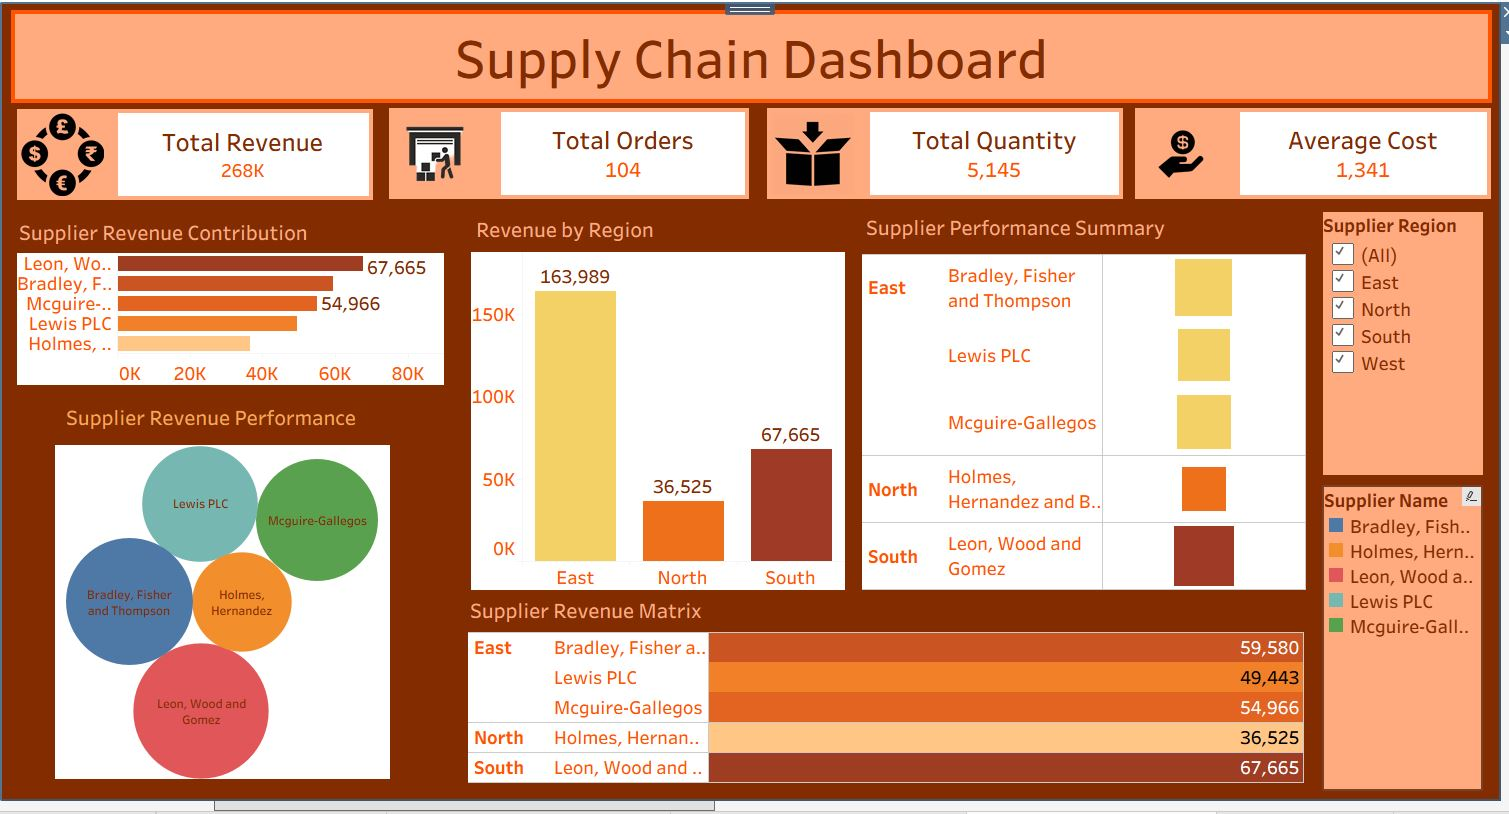

The dashboard page shown, as its layout file describes it:
{"tool":"tableau","page":{"name":"Supply Chain Dashboard","canvas":[1500,800],"ordinal":0},"visuals":[{"type":"text","box":[14,18,1481,93]},{"type":"image","param":"C:/Users/ADMIN/OneDrive/Desktop/icon/unit.png","box":[392,116,108,91]},{"type":"worksheet","title":"KPI Total Orders","mark":"Automatic","box":[500,116,252,91]},{"type":"image","param":"C:/Users/ADMIN/OneDrive/Desktop/icon/available stock.jpg","box":[770,116,99,91]},{"type":"worksheet","title":"KPI Total Quantity","mark":"Automatic","box":[869,116,257,91]},{"type":"image","param":"C:/Users/ADMIN/OneDrive/Desktop/icon/revenue.png","box":[1138,116,101,91]},{"type":"worksheet","title":"KPI Average cost","mark":"Automatic","box":[1239,116,255,91]},{"type":"image","param":"C:/Users/ADMIN/OneDrive/Desktop/icon/cost.png","box":[20,117,97,91]},{"type":"worksheet","title":"KPI Total Revenue","mark":"Automatic","box":[117,117,259,91]},{"type":"text","box":[865,220,307,30]},{"type":"filter","title":"Supplier Revenue Performance","param":"[federated.1kicqjl09o7n3215mjyh605y72bl].[none:Supplier_Region:nk]","box":[1326,220,160,263]},{"type":"text","box":[475,222,186,30]},{"type":"text","box":[18,225,297,30]},{"type":"worksheet","title":"Revenue by Region","mark":"Bar","rows":["Total_Revenue"],"cols":["Supplier_Region"],"box":[474,260,374,338]},{"type":"worksheet","title":"Supplier Revenue Performance","mark":"Automatic","rows":["Supplier_Name"],"cols":["Total_Revenue"],"box":[20,261,434,148]},{"type":"worksheet","title":"Supplier Performance Summary","mark":"Automatic","rows":["Supplier_Region","Supplier_Name"],"box":[865,262,444,336]},{"type":"text","box":[65,409,356,33]},{"type":"worksheet","title":"Supplier Revenue Contribution","mark":"Circle","box":[58,453,343,334]},{"type":"legend","title":"Supplier Revenue Contribution","param":"[federated.1kicqjl09o7n3215mjyh605y72bl].[none:Supplier_Name:nk]","box":[1327,495,157,302]},{"type":"text","box":[469,603,240,30]},{"type":"worksheet","title":"Supplier Revenue Matrix","mark":"Square","rows":["Supplier_Region","Supplier_Name"],"box":[471,640,836,151]}]}

Visuals, with their boxes in screenshot pixels (x1, y1, x2, y2), scaled from the page's 1500x800 canvas onto the 1509x814 screenshot:
text: crop(14, 18, 1504, 113)
image: crop(394, 118, 503, 211)
"KPI Total Orders" worksheet: crop(503, 118, 757, 211)
image: crop(775, 118, 874, 211)
"KPI Total Quantity" worksheet: crop(874, 118, 1133, 211)
image: crop(1145, 118, 1246, 211)
"KPI Average cost" worksheet: crop(1246, 118, 1503, 211)
image: crop(20, 119, 118, 212)
"KPI Total Revenue" worksheet: crop(118, 119, 378, 212)
text: crop(870, 224, 1179, 254)
"Supplier Revenue Performance" filter: crop(1334, 224, 1495, 491)
text: crop(478, 226, 665, 256)
text: crop(18, 229, 317, 259)
"Revenue by Region" worksheet (Bar marks): crop(477, 265, 853, 608)
"Supplier Revenue Performance" worksheet: crop(20, 266, 457, 416)
"Supplier Performance Summary" worksheet: crop(870, 267, 1317, 608)
text: crop(65, 416, 424, 450)
"Supplier Revenue Contribution" worksheet (Circle marks): crop(58, 461, 403, 801)
"Supplier Revenue Contribution" legend: crop(1335, 504, 1493, 811)
text: crop(472, 614, 713, 644)
"Supplier Revenue Matrix" worksheet (Square marks): crop(474, 651, 1315, 805)
